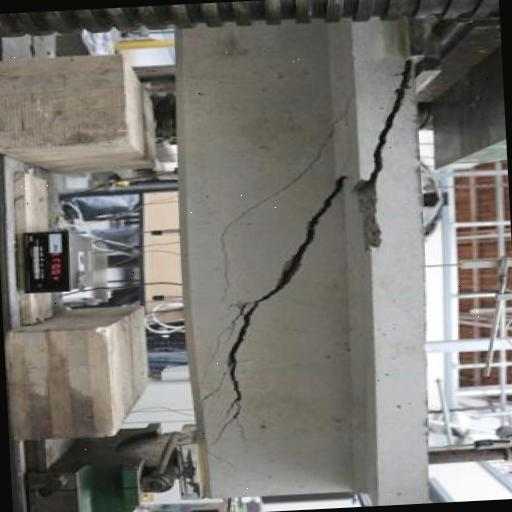spalling: (210, 173, 348, 440), (207, 113, 350, 297), (354, 59, 412, 254)
